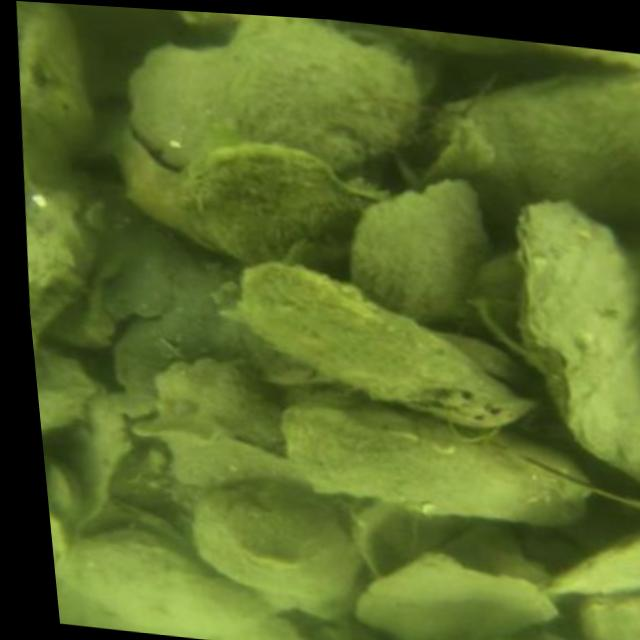Oyster-Closed: (46, 456, 84, 528)
Oyster-Indeterminate: (236, 261, 536, 433), (126, 14, 421, 170), (278, 400, 598, 529), (511, 195, 640, 488), (431, 70, 640, 239), (168, 145, 397, 268), (55, 527, 303, 640), (192, 481, 360, 626), (131, 358, 311, 490), (346, 174, 491, 326), (347, 547, 560, 640), (18, 2, 101, 199), (541, 534, 640, 598), (34, 344, 102, 436)
